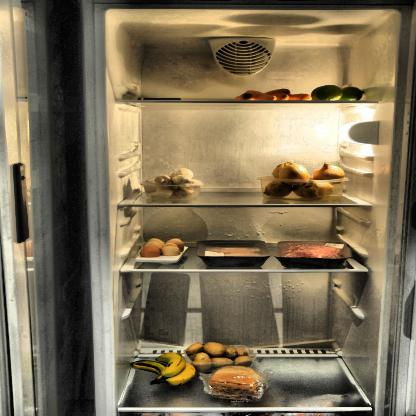banana: (134, 352, 198, 386)
carrot: (234, 88, 313, 102)
chicken: (201, 243, 267, 258)
chocolate: (145, 96, 183, 102)
eggs: (140, 238, 187, 262)
ground_beef: (276, 241, 352, 262)
lime: (313, 83, 367, 102)
mushrooms: (141, 166, 203, 200)
onion: (259, 160, 350, 200)
potato: (183, 342, 256, 369)
